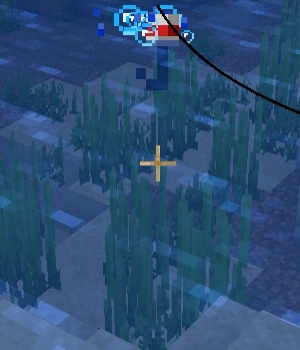up: (139, 12, 183, 92)
